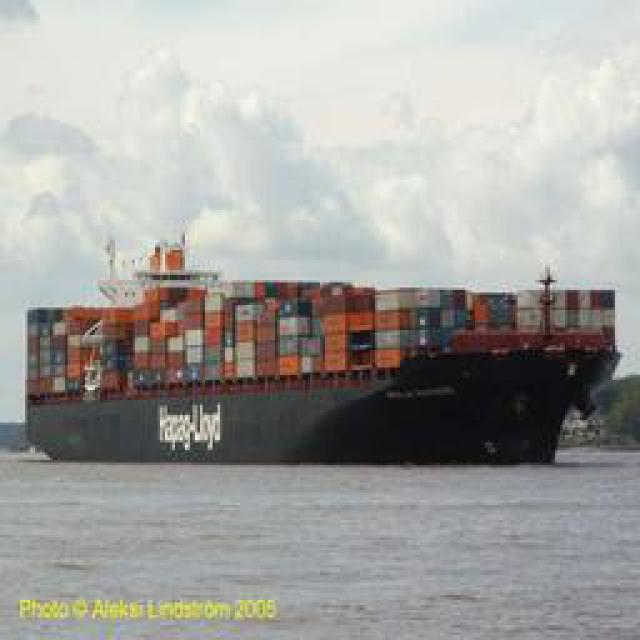Ship: (9, 218, 629, 476)
